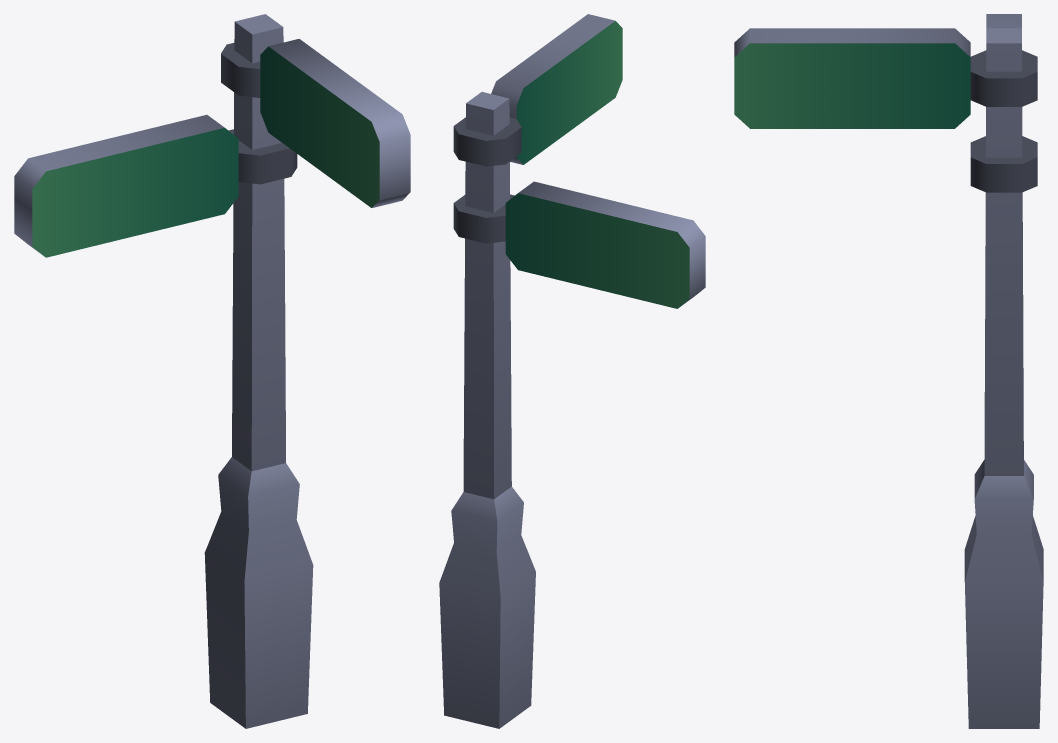
The model's file is bus_stop_sign.glb.
The picture shows the model from 3 angles, left to right: view 1: azimuth 30°, elevation 25°; view 2: azimuth 150°, elevation 25°; view 3: azimuth 270°, elevation 25°; orthographic projection. The views are drawn at different scales.
Visible parts, largest first — view 1: road-sign-street; view 2: road-sign-street; view 3: road-sign-street.
Part boxes in pixels (<box>): road-sign-street: <box>14,14,410,728</box>; road-sign-street: <box>439,14,705,728</box>; road-sign-street: <box>734,14,1043,728</box>.
Size of the model in its own units: 0.1963 by 0.475 by 0.1962.
Materials: 1 (1 with a texture image).
